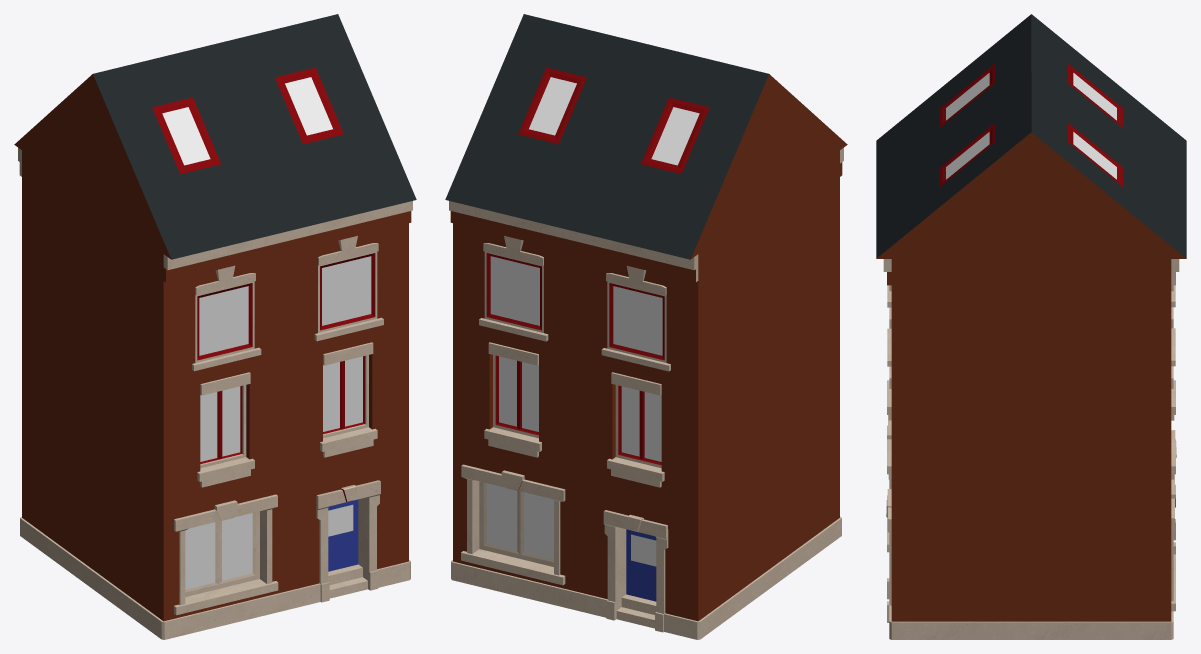
Rendered from TESTAMIENNOISE1.fbx.
3 views of the same model, side by side, from view 1: azimuth 30°, elevation 25°; view 2: azimuth 150°, elevation 25°; view 3: azimuth 270°, elevation 25° (orthographic).
Visible parts, largest first — view 1: Amiennoise1_TEST RETOPO; view 2: Amiennoise1_TEST RETOPO; view 3: Amiennoise1_TEST RETOPO.
Part boxes in pixels (x1=…): Amiennoise1_TEST RETOPO: x1=14, y1=14, x2=416, y2=639; Amiennoise1_TEST RETOPO: x1=445, y1=14, x2=847, y2=639; Amiennoise1_TEST RETOPO: x1=876, y1=14, x2=1186, y2=639.
Bounding box in the file's own units: 609 × 1200 × 666.
